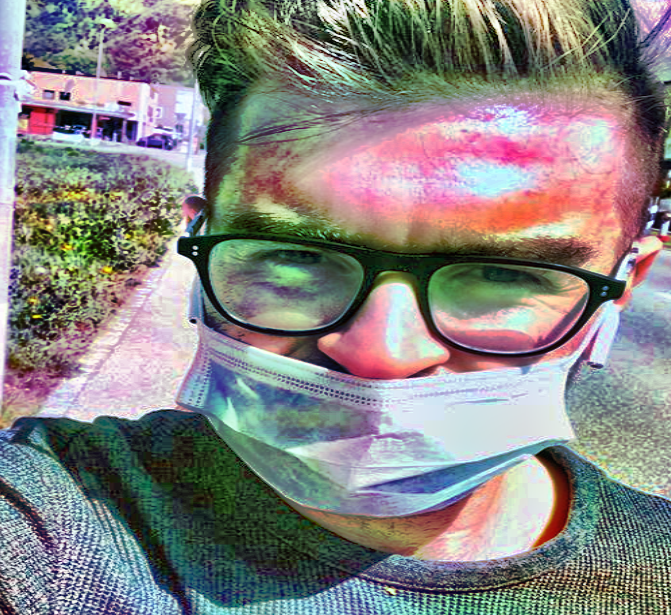mask_weared_incorrect: (170, 43, 671, 525)
